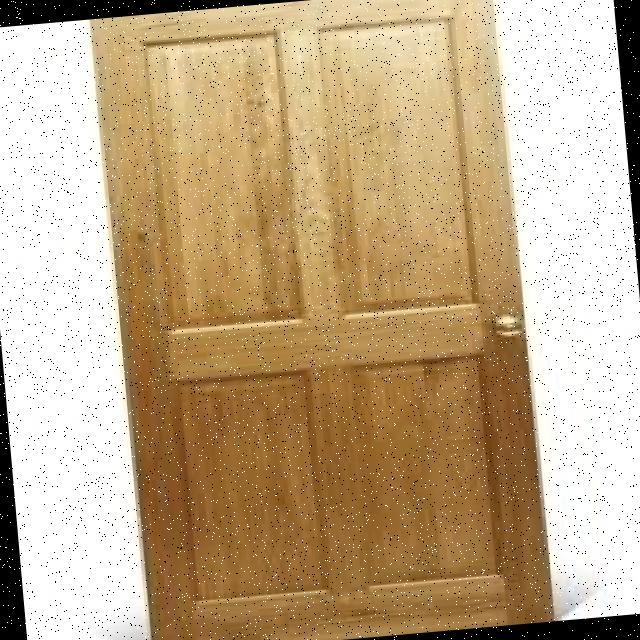Door: (87, 0, 550, 640)
